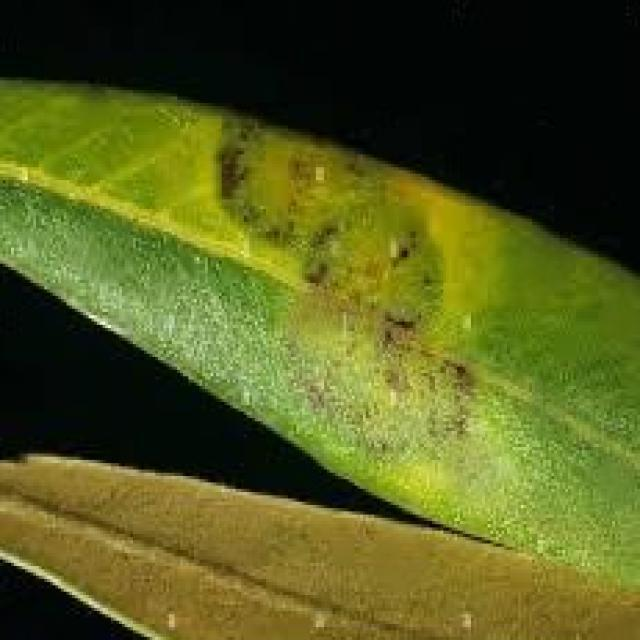OlivePeacockSpot: (0, 80, 637, 582)
